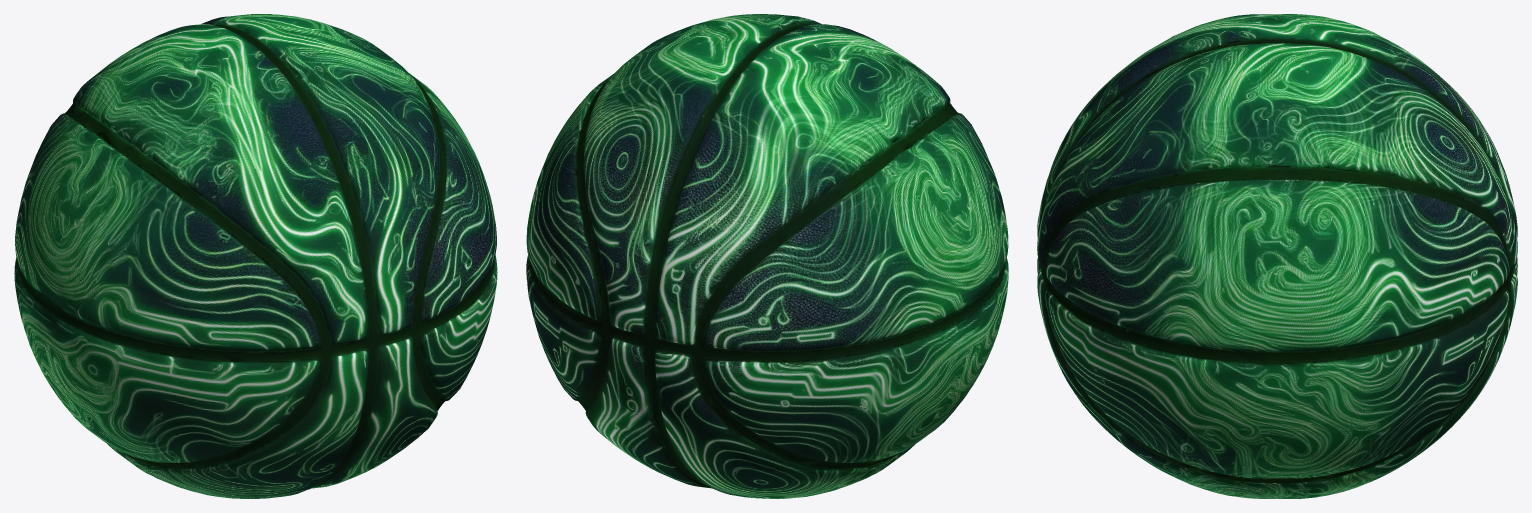
File: basketball-verde-mobile.glb
3 renders of one model, left to right at view 1: azimuth 30°, elevation 25°; view 2: azimuth 150°, elevation 25°; view 3: azimuth 270°, elevation 25°, orthographic.
Visible parts, largest first — view 1: node_0; view 2: node_0; view 3: node_0.
Boxes of the visible parts, bbox=[...] form: node_0: bbox=[14, 14, 497, 498]; node_0: bbox=[526, 14, 1008, 498]; node_0: bbox=[1037, 14, 1517, 498].
Size of the model in its own units: 1.18 by 1.18 by 1.17.
1 material, 1 textured.
